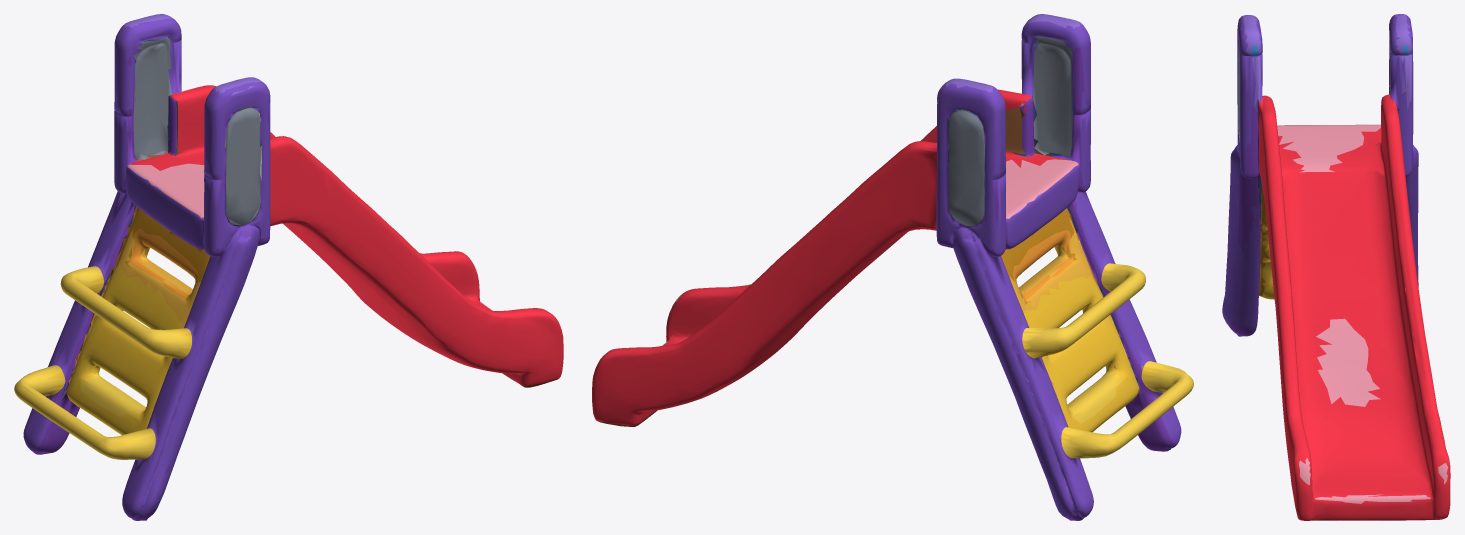
Rendered from SM_slide_kids.glb.
The picture shows the model from 3 angles, left to right: view 1: azimuth 30°, elevation 25°; view 2: azimuth 150°, elevation 25°; view 3: azimuth 270°, elevation 25°; orthographic projection. The views are drawn at different scales.
Visible parts, largest first — view 1: SM_slide_kids; view 2: SM_slide_kids; view 3: SM_slide_kids.
Boxes of the visible parts, x1,y1,x2,y2 form: SM_slide_kids: [14, 14, 563, 520]; SM_slide_kids: [592, 14, 1193, 520]; SM_slide_kids: [1222, 14, 1450, 520].
Size of the model in its own units: 1.91 by 1.5 by 0.8729.
1 material, 1 textured.
